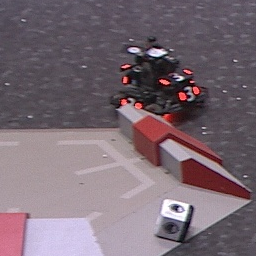Red: (159, 69, 194, 84), (119, 97, 144, 112), (178, 86, 200, 102)
Robot: (109, 41, 207, 125)
